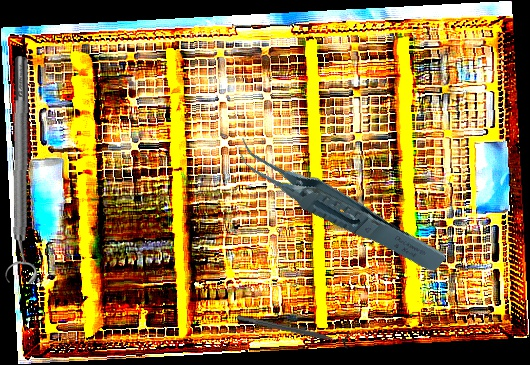Fixation Ring: (1, 56, 42, 284), (235, 308, 352, 350)
Tissue Forceps: (230, 98, 449, 309)
